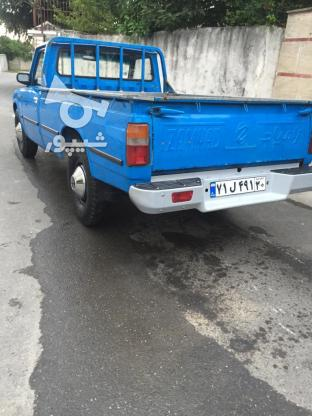car: (210, 175, 268, 196)
